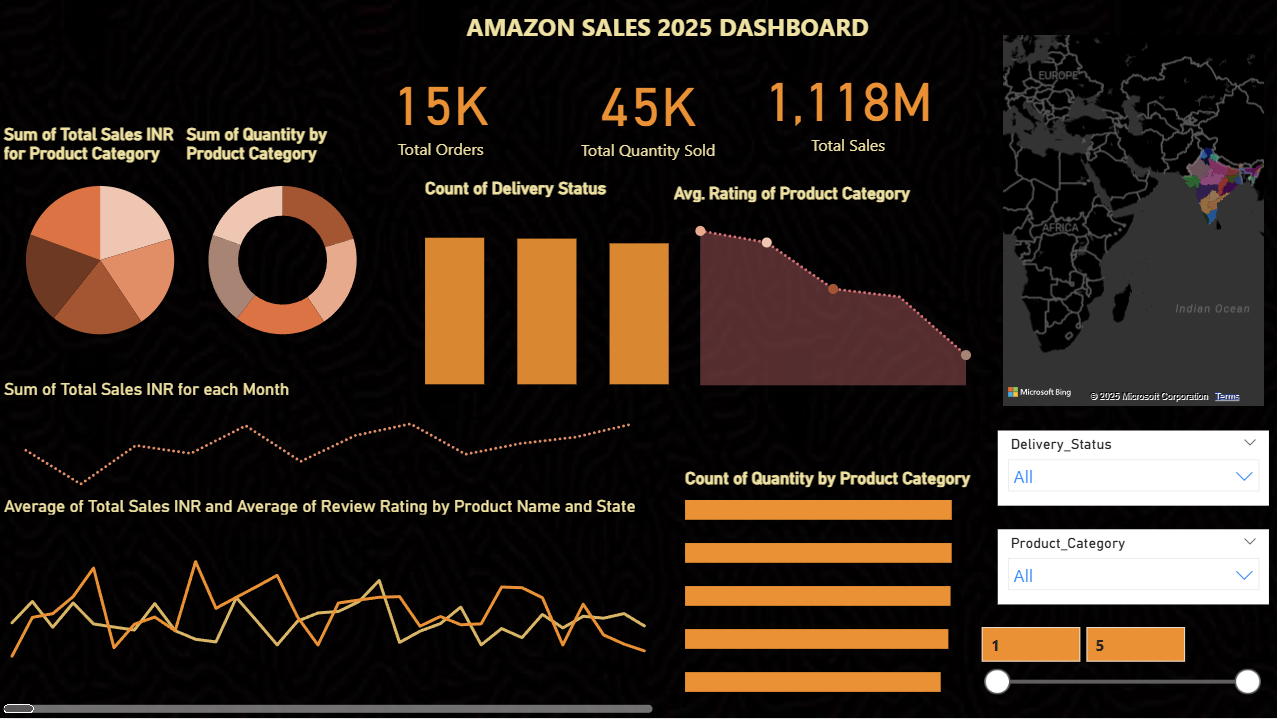

This screenshot's page, from the dashboard's own definition file:
{"tool":"powerbi","page":{"name":"Page 1","canvas":[1280,720],"ordinal":0},"visuals":[{"type":"lineChart","title":"Sum of Total Sales INR for each Month","fields":{"Category":["amazon_sales_2025_INR (1).Date.Variation.Date Hierarchy.Month"],"Y":["Sum(amazon_sales_2025_INR (1).Total_Sales_INR)"]},"box":[0,381.2,658.8,135],"z":0},{"type":"pieChart","title":"Sum of Total Sales INR for Product Category","fields":{"Category":["amazon_sales_2025_INR (1).Product_Category"],"Y":["Sum(amazon_sales_2025_INR (1).Total_Sales_INR)"]},"box":[0,126.2,202.5,233.8],"z":1000},{"type":"stackedAreaChart","title":"Avg. Rating of Product Category","fields":{"Category":["amazon_sales_2025_INR (1).Product_Category"],"Y":["Avg(amazon_sales_2025_INR (1).Review_Rating)"]},"box":[670,185,328.8,207.5],"z":2000},{"type":"filledMap","fields":{"Category":["amazon_sales_2025_INR (1).State"],"Series":["amazon_sales_2025_INR (1).Total_Sales_INR"]},"box":[998.8,32.5,271.2,381.2],"z":3000},{"type":"lineChart","title":"Average of Total Sales INR and Average of Review Rating by Product Name and State","fields":{"Y":["Avg(amazon_sales_2025_INR (1).Total_Sales_INR)"],"Y2":["Avg(amazon_sales_2025_INR (1).Review_Rating)"],"Category":["amazon_sales_2025_INR (1).Product_Name","amazon_sales_2025_INR (1).State"]},"box":[0,497.5,658.8,222.5],"z":4000},{"type":"donutChart","title":"Sum of Quantity by Product Category","fields":{"Category":["amazon_sales_2025_INR (1).Product_Category"],"Y":["Sum(amazon_sales_2025_INR (1).Quantity)"]},"box":[182.5,126.2,202.5,233.8],"z":5000},{"type":"card","fields":{"Values":["amazon_sales_2025_INR (1).Total Orders"]},"box":[371.2,55,141.2,115],"z":6000},{"type":"card","fields":{"Values":["amazon_sales_2025_INR (1).Total Quantity Sold"]},"box":[568.8,58.8,161.2,108.8],"z":7000},{"type":"card","fields":{"Values":["amazon_sales_2025_INR (1).Total Sales"]},"box":[747.5,55,203.8,106.2],"z":8000},{"type":"barChart","title":"Count of Quantity by Product Category","fields":{"Y":["CountNonNull(amazon_sales_2025_INR (1).Quantity)"],"Category":["amazon_sales_2025_INR (1).Product_Category"]},"box":[681.2,470,317.5,231.2],"z":9000},{"type":"columnChart","title":"Count of Delivery Status ","fields":{"Category":["amazon_sales_2025_INR (1).Delivery_Status"],"Y":["CountNonNull(amazon_sales_2025_INR (1).Delivery_Status)"]},"box":[421.2,180,260,212.5],"z":10000},{"type":"textbox","box":[462.5,7.5,436.2,50],"z":11000},{"type":"slicer","fields":{"Values":["amazon_sales_2025_INR (1).Delivery_Status"]},"box":[998.8,432.5,271.2,75],"z":12000},{"type":"slicer","fields":{"Values":["amazon_sales_2025_INR (1).Product_Category"]},"box":[998.8,531.2,271.2,75],"z":13000},{"type":"slicer","fields":{"Values":["amazon_sales_2025_INR (1).Review_Rating"]},"box":[970,618.8,300,82.5],"z":14000}]}

Visuals, with their boxes in screenshot pixels (x1, y1, x2, y2), scaled from the page's 1280x720 canvas onto the 1277x719 screenshot:
"Sum of Total Sales INR for each Month" lineChart: bbox=[0, 381, 657, 515]
"Sum of Total Sales INR for Product Category" pieChart: bbox=[0, 126, 202, 360]
"Avg. Rating of Product Category" stackedAreaChart: bbox=[668, 185, 996, 392]
filledMap - amazon_sales_2025_INR (1).State x amazon_sales_2025_INR (1).Total_Sales_INR: bbox=[996, 32, 1267, 413]
"Average of Total Sales INR and Average of Review Rating by Product Name and State" lineChart: bbox=[0, 497, 657, 718]
"Sum of Quantity by Product Category" donutChart: bbox=[182, 126, 384, 360]
card - amazon_sales_2025_INR (1).Total Orders: bbox=[370, 55, 511, 170]
card - amazon_sales_2025_INR (1).Total Quantity Sold: bbox=[567, 59, 728, 167]
card - amazon_sales_2025_INR (1).Total Sales: bbox=[746, 55, 949, 161]
"Count of Quantity by Product Category" barChart: bbox=[680, 469, 996, 700]
"Count of Delivery Status " columnChart: bbox=[420, 180, 680, 392]
textbox: bbox=[461, 7, 897, 57]
slicer - amazon_sales_2025_INR (1).Delivery_Status: bbox=[996, 432, 1267, 507]
slicer - amazon_sales_2025_INR (1).Product_Category: bbox=[996, 530, 1267, 605]
slicer - amazon_sales_2025_INR (1).Review_Rating: bbox=[968, 618, 1267, 700]
